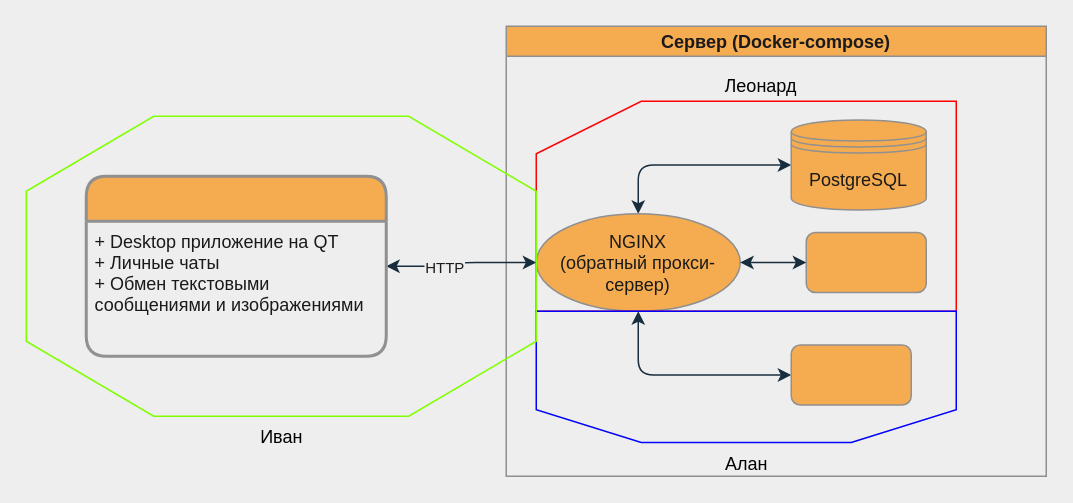
Some shapes in this 1073 by 503 pixel diagram are drawn without their labels. The shapes that lost their labels are listed below. From the top down, each one's box as (x1, y1, x2, y2) in pixels, then its label:
(84, 174, 387, 357): Клиент
(805, 231, 926, 292): API сервера
(790, 344, 911, 405): ML-модель
